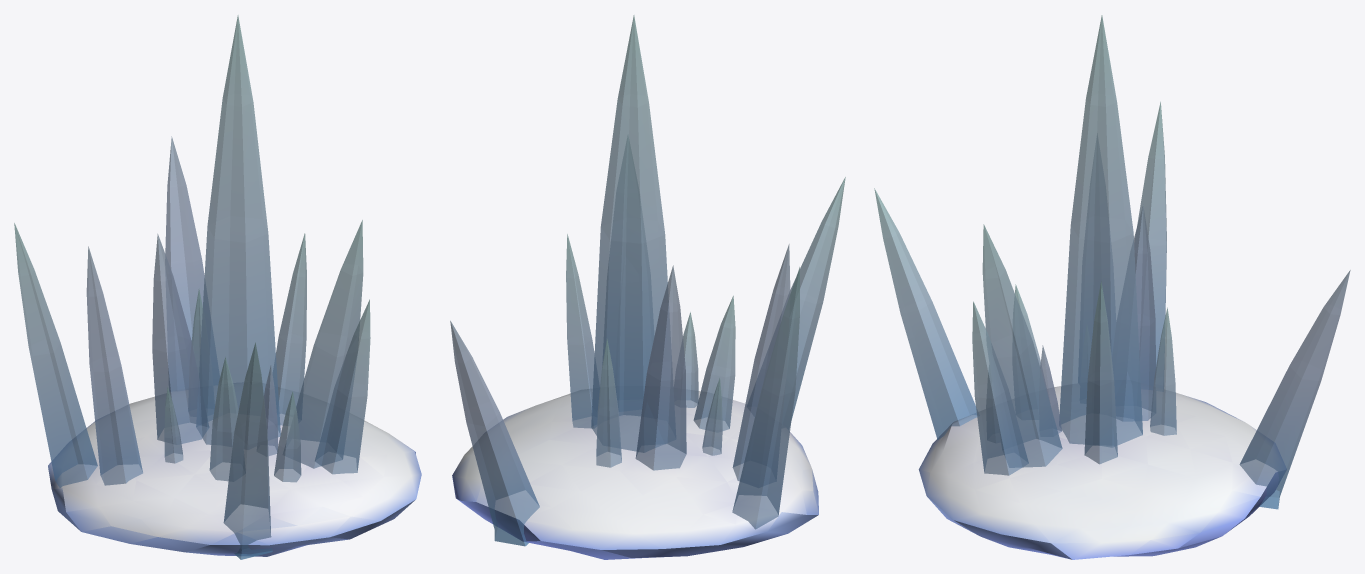
The model's file is glass_misc_ice_spikes_b.glb.
3 renders of one model, left to right at view 1: azimuth 30°, elevation 25°; view 2: azimuth 150°, elevation 25°; view 3: azimuth 270°, elevation 25°, orthographic.
Visible parts, largest first — view 1: glass_misc_ice_spikes_b; view 2: glass_misc_ice_spikes_b; view 3: glass_misc_ice_spikes_b.
Boxes of the visible parts, left/top/right/bottom form: glass_misc_ice_spikes_b: left=14, top=15, right=421, bottom=559; glass_misc_ice_spikes_b: left=450, top=15, right=845, bottom=559; glass_misc_ice_spikes_b: left=874, top=15, right=1350, bottom=559.
Bounding box in the file's own units: 6.95 × 8.84 × 8.03.
